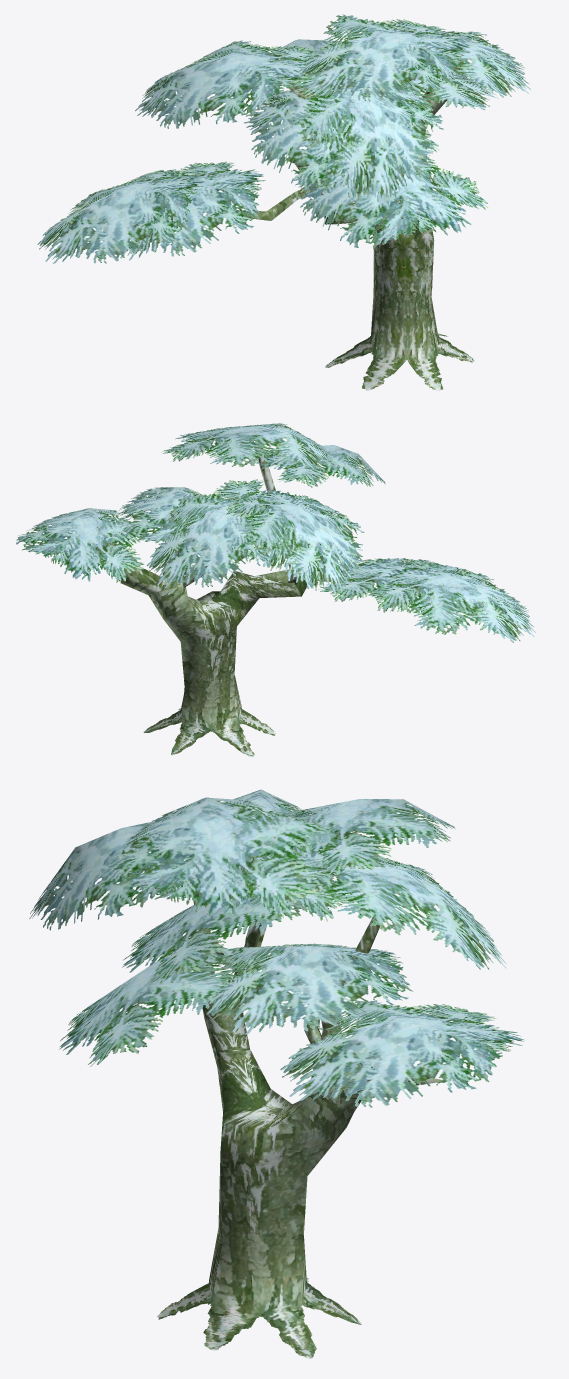
File: nml-bd127.glb
3 views of the same model, one above another, from view 1: azimuth 30°, elevation 25°; view 2: azimuth 150°, elevation 25°; view 3: azimuth 270°, elevation 25° (orthographic). The views are drawn at different scales.
Parts seen in each view (by area): view 1: geom_node_0, geom_node_1; view 2: geom_node_0, geom_node_1; view 3: geom_node_0, geom_node_1.
Boxes of the visible parts, box(x1,y1,x2,y2) form: geom_node_0: box(244, 14, 530, 391); geom_node_1: box(37, 40, 316, 263); geom_node_0: box(16, 423, 385, 757); geom_node_1: box(226, 490, 535, 642); geom_node_0: box(29, 797, 524, 1358); geom_node_1: box(138, 789, 455, 969).
Bounding box in the file's own units: 13.39 × 8.18 × 8.42.
Materials: 2 (2 with a texture image).
